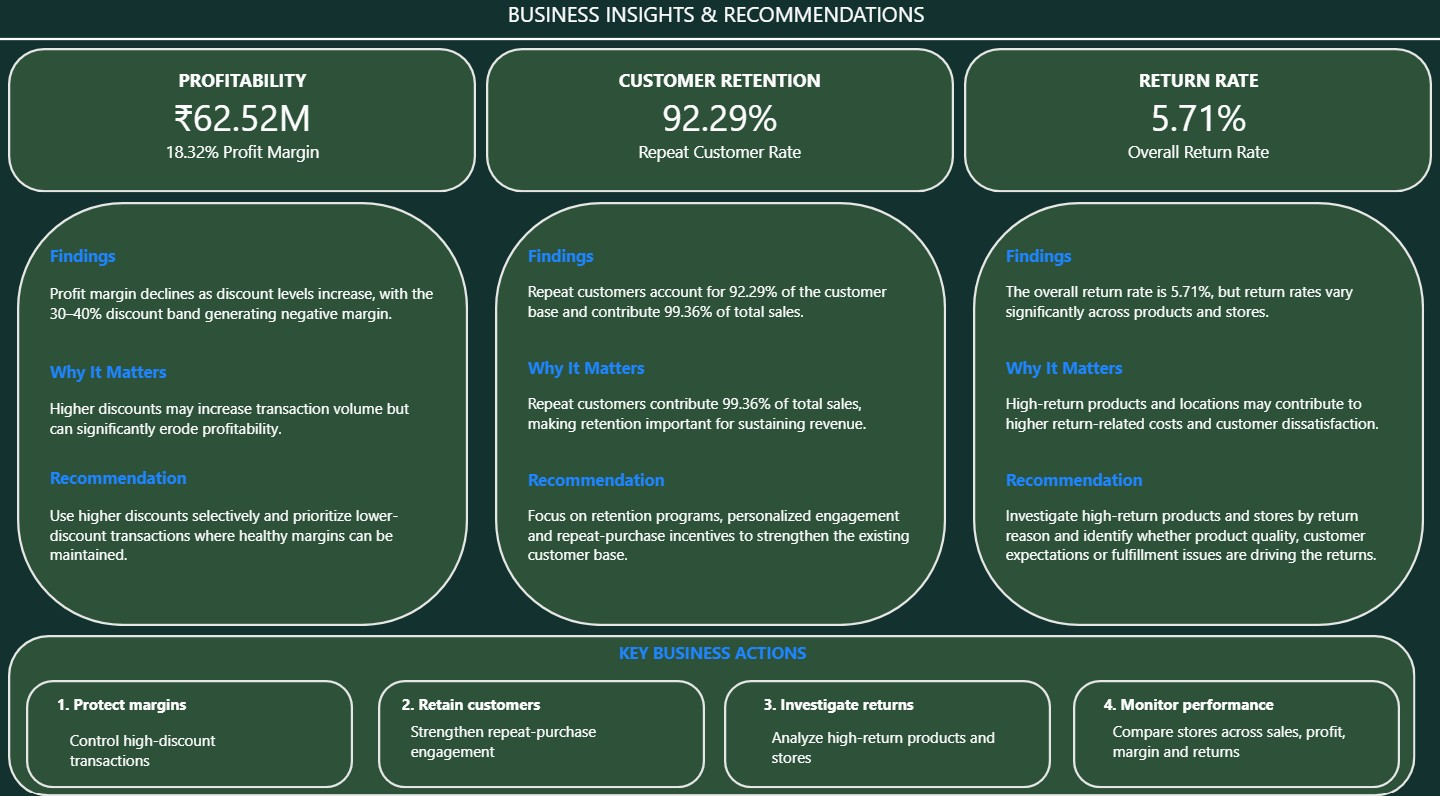

Layout of this report page (visuals, bound fields, positions):
{"tool":"powerbi","page":{"name":"Business Insights and Receommendations","canvas":[1280,720],"ordinal":4},"visuals":[{"type":"shape","box":[8,48,415,128],"z":0,"group":"g3"},{"type":"shape","box":[431.5,48,415,128],"z":0,"group":"g2"},{"type":"shape","box":[856,48,415,128],"z":0,"group":"g1"},{"type":"shape","box":[16,184,400,376],"z":0,"group":"g4"},{"type":"shape","box":[440,184,400,376],"z":0,"group":"g5"},{"type":"shape","box":[864,184,400,376],"z":0,"group":"g6"},{"type":"shape","box":[8,568,1248,144],"z":0},{"type":"shape","box":[24,608,290,96],"z":0,"group":"g7"},{"type":"shape","box":[336,608,290,96],"z":0,"group":"g8"},{"type":"shape","box":[642.7,608,290,96],"z":0,"group":"g9"},{"type":"shape","box":[952,608,290,96],"z":0,"group":"g10"},{"type":"group","id":"g1","title":"Group 1","box":[856,48,415,128],"z":1000},{"type":"textbox","box":[47.6,60.8,335.7,102.4],"z":1000,"group":"g3"},{"type":"textbox","box":[464.6,60.8,348.9,102.4],"z":1000,"group":"g2"},{"type":"textbox","box":[931.8,60.8,263.3,102.4],"z":1000,"group":"g1"},{"type":"group","id":"g2","title":"Group 1","box":[431.5,48,416,128],"z":2000},{"type":"group","id":"g3","title":"Group 1","box":[8,48,415,128],"z":3000},{"type":"shape","box":[0,32,1280,16],"z":4000},{"type":"textbox","box":[408,0,456,48],"z":5000},{"type":"group","id":"g4","title":"Group 2","box":[16,184,400,376],"z":6000},{"type":"group","id":"g5","title":"Group 2","box":[440,184,400,376],"z":7000},{"type":"group","id":"g6","title":"Group 2","box":[864,184,400,376],"z":8000},{"type":"textbox","box":[544,568,192,32],"z":9000},{"type":"textbox","box":[46.5,616,187.1,32],"z":9500,"group":"g7"},{"type":"textbox","box":[352,616,187.1,32],"z":9500,"group":"g8"},{"type":"textbox","box":[672.6,616,209.5,32],"z":9500,"group":"g9"},{"type":"textbox","box":[974.5,616,224.5,32],"z":9500,"group":"g10"},{"type":"textbox","box":[360,640,184,48],"z":10000,"group":"g8"},{"type":"textbox","box":[981.9,640,224.5,48],"z":10000,"group":"g10"},{"type":"textbox","box":[679.8,644.9,213.4,44.3],"z":10000,"group":"g9"},{"type":"textbox","box":[58.1,648,196.2,48],"z":10000,"group":"g7"},{"type":"group","id":"g7","title":"Group 1","box":[24,608,290,96],"z":11502},{"type":"textbox","box":[40,216,192,32],"z":12000,"group":"g4"},{"type":"textbox","box":[464,216,192,32],"z":12000,"group":"g5"},{"type":"textbox","box":[888,216,192,32],"z":12000,"group":"g6"},{"type":"group","id":"g8","title":"Group 1","box":[336,608,290,96],"z":12002},{"type":"group","id":"g9","title":"Group 1","box":[642.7,608,290,96],"z":12502},{"type":"textbox","box":[464,249.6,352,64],"z":13000,"group":"g5"},{"type":"textbox","box":[888,249.6,352,64],"z":13000,"group":"g6"},{"type":"textbox","box":[40,251.2,352,64],"z":13000,"group":"g4"},{"type":"group","id":"g10","title":"Group 1","box":[952,608,288,96],"z":13002},{"type":"textbox","box":[464,315.2,192,32],"z":14000,"group":"g5"},{"type":"textbox","box":[888,315.2,192,32],"z":14000,"group":"g6"},{"type":"textbox","box":[40,318.4,192,32],"z":14000,"group":"g4"},{"type":"textbox","box":[464,348.8,352,64],"z":15000,"group":"g5"},{"type":"textbox","box":[888,348.8,352,64],"z":15000,"group":"g6"},{"type":"textbox","box":[40,353.6,352,56],"z":15000,"group":"g4"},{"type":"textbox","box":[40,412.8,136,32],"z":16000,"group":"g4"},{"type":"textbox","box":[464,414.4,136,32],"z":16000,"group":"g5"},{"type":"textbox","box":[888,414.4,136,32],"z":16000,"group":"g6"},{"type":"textbox","box":[40,448,352,64],"z":17000,"group":"g4"},{"type":"textbox","box":[464,448,352,64],"z":17000,"group":"g5"},{"type":"textbox","box":[888,448,352,80],"z":17000,"group":"g6"}]}

Visuals, with their boxes in screenshot pixels (x1, y1, x2, y2), scaled from the page's 1280x720 canvas onto the 1440x796 screenshot:
shape: 9/53/476/195
shape: 485/53/952/195
shape: 963/53/1430/195
shape: 18/203/468/619
shape: 495/203/945/619
shape: 972/203/1422/619
shape: 9/628/1413/787
shape: 27/672/353/778
shape: 378/672/704/778
shape: 723/672/1049/778
shape: 1071/672/1397/778
"Group 1" group: 963/53/1430/195
textbox: 54/67/431/180
textbox: 523/67/915/180
textbox: 1048/67/1344/180
"Group 1" group: 485/53/953/195
"Group 1" group: 9/53/476/195
shape: 0/35/1439/53
textbox: 459/0/972/53
"Group 2" group: 18/203/468/619
"Group 2" group: 495/203/945/619
"Group 2" group: 972/203/1422/619
textbox: 612/628/828/663
textbox: 52/681/263/716
textbox: 396/681/606/716
textbox: 757/681/992/716
textbox: 1096/681/1349/716
textbox: 405/708/612/761
textbox: 1105/708/1357/761
textbox: 765/713/1005/762
textbox: 65/716/286/769
"Group 1" group: 27/672/353/778
textbox: 45/239/261/274
textbox: 522/239/738/274
textbox: 999/239/1215/274
"Group 1" group: 378/672/704/778
"Group 1" group: 723/672/1049/778
textbox: 522/276/918/347
textbox: 999/276/1395/347
textbox: 45/278/441/348
"Group 1" group: 1071/672/1395/778
textbox: 522/348/738/384
textbox: 999/348/1215/384
textbox: 45/352/261/387
textbox: 522/386/918/456
textbox: 999/386/1395/456
textbox: 45/391/441/453
textbox: 45/456/198/492
textbox: 522/458/675/494
textbox: 999/458/1152/494
textbox: 45/495/441/566
textbox: 522/495/918/566
textbox: 999/495/1395/584
